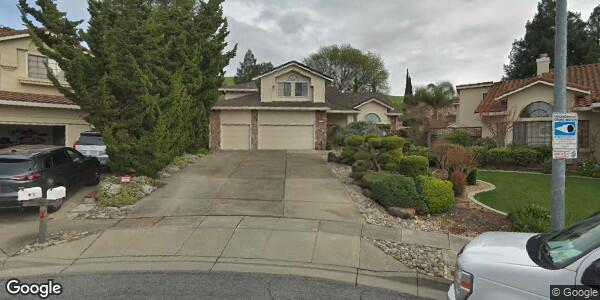Steel_Pole: (549, 2, 578, 227)
